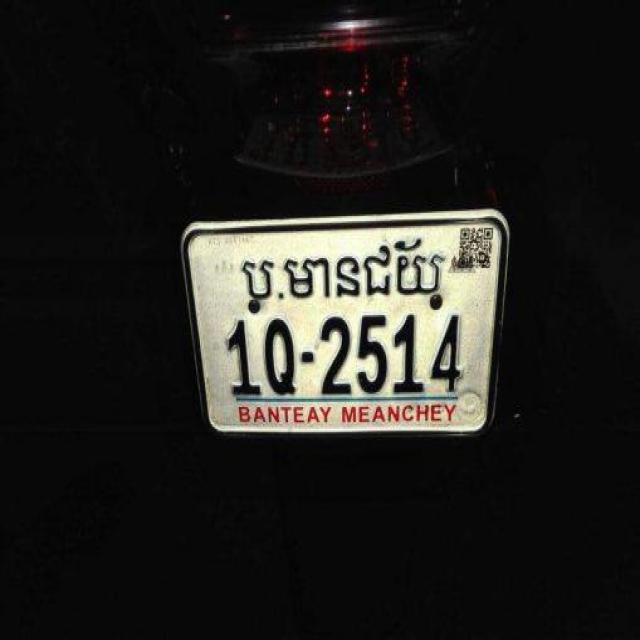Banteay_Meanchey: (240, 240, 443, 299)
